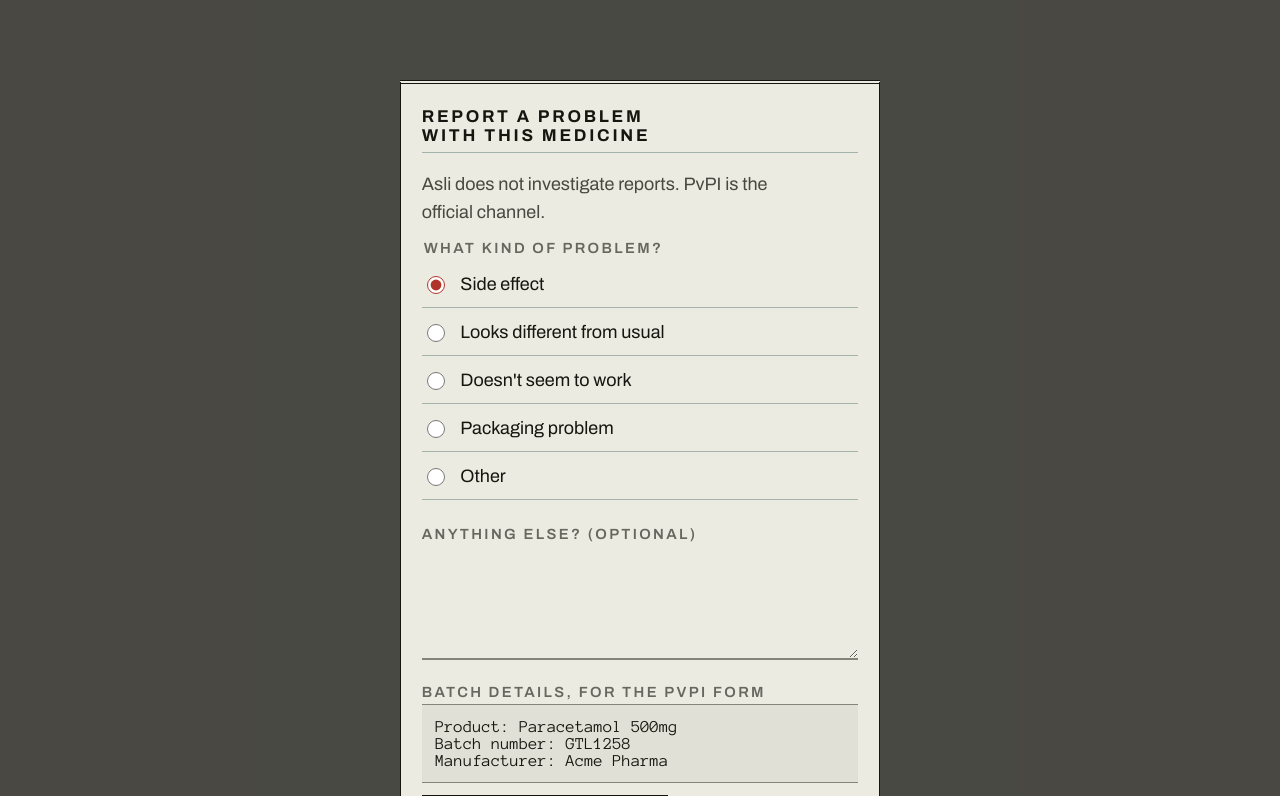
Scenario: ReportProblemModal › submits the chosen problem type and shows PvPI routes on success
Step 1. Click the radio button labelled "Packaging problem" → (436, 430), box [427,420,445,438]
(page scrolled)
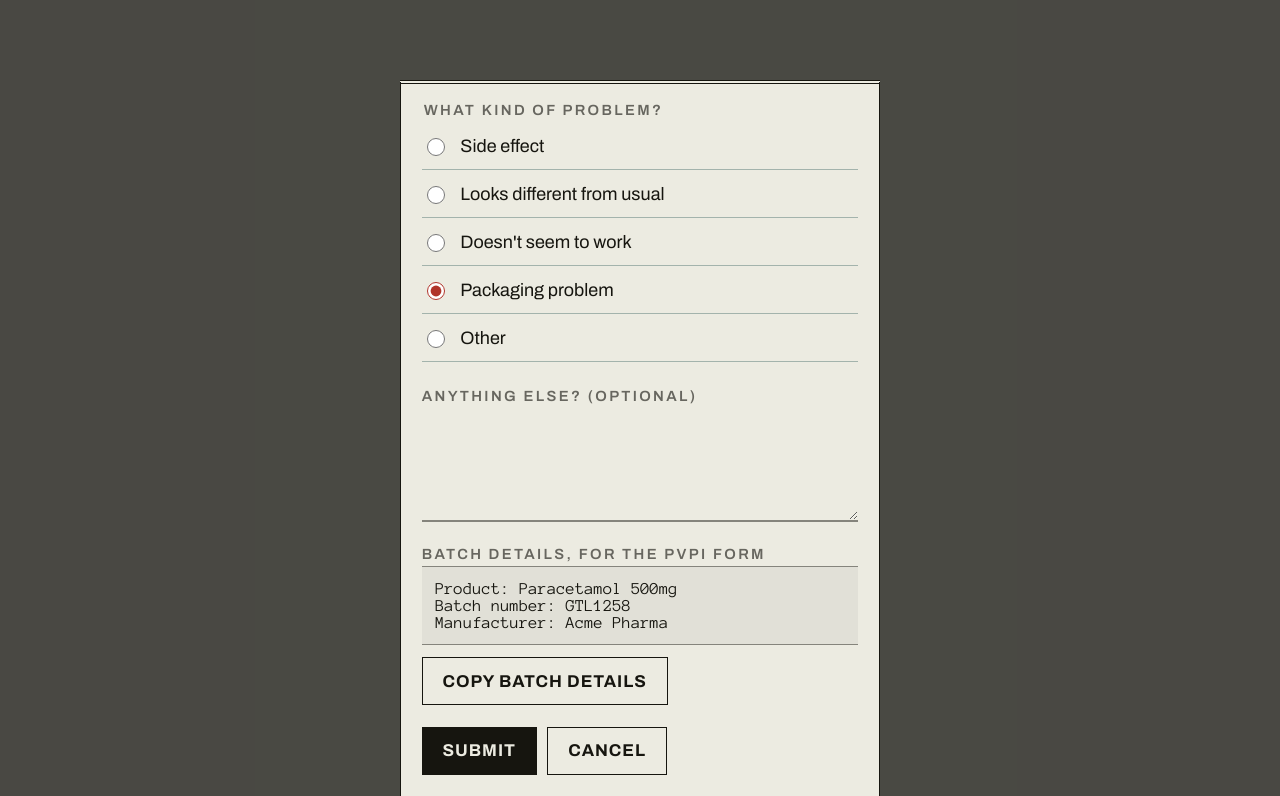
Step 2. Click the button "Submit" → (479, 751), box [422,727,537,775]
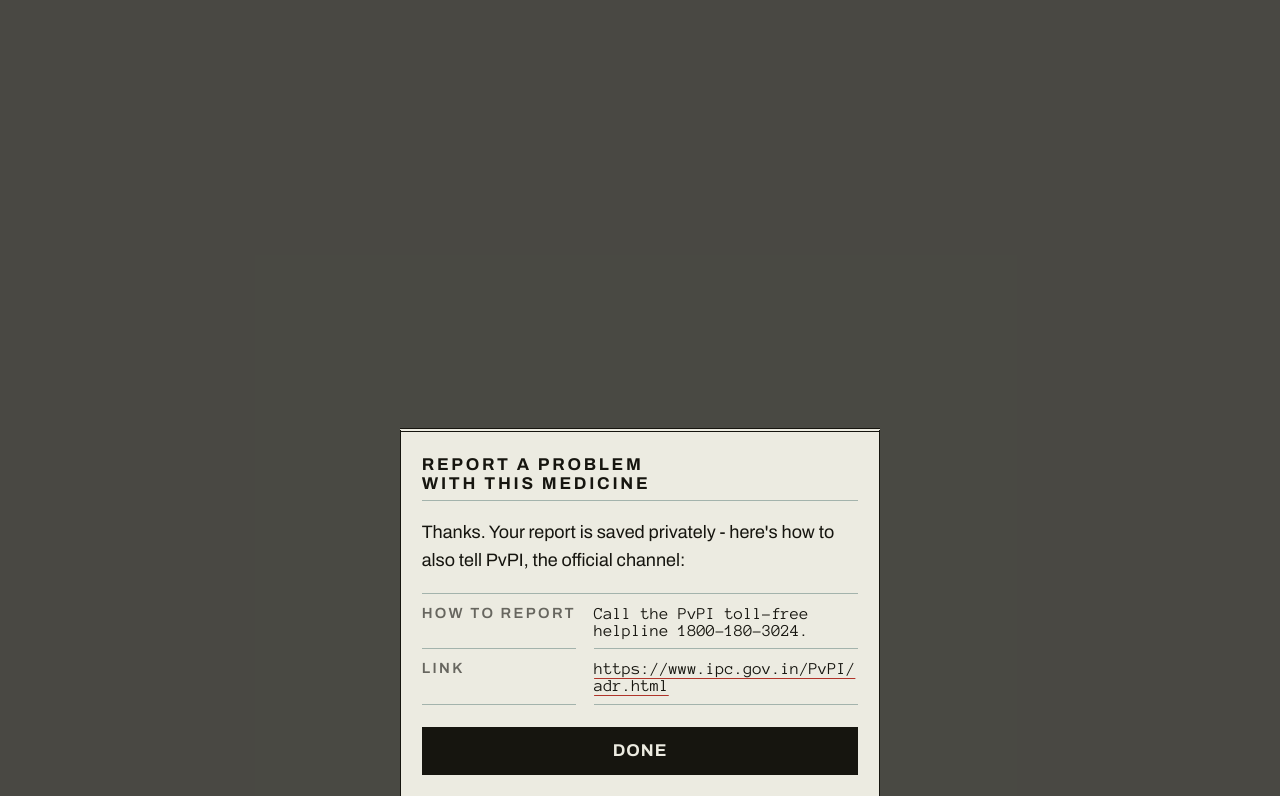
Expected: the text "Call the PvPI toll-free helpline 1800-180-3024." is shown, [594,594,858,649]
